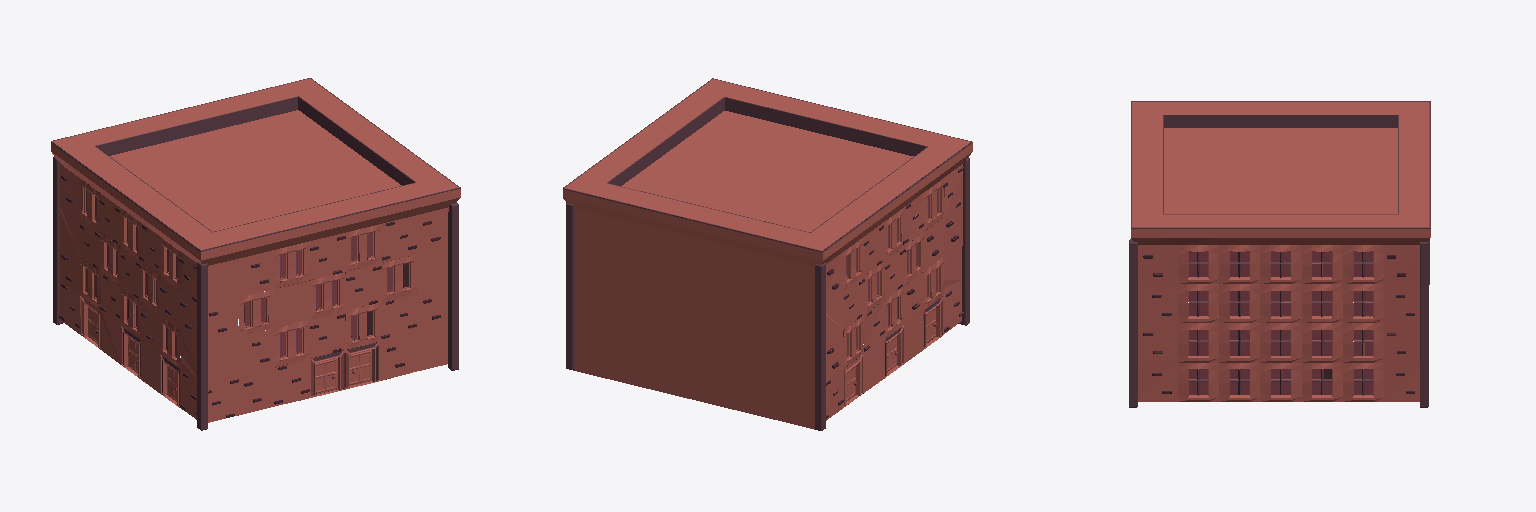
3 views of the same model, side by side, from view 1: azimuth 30°, elevation 25°; view 2: azimuth 150°, elevation 25°; view 3: azimuth 270°, elevation 25° (orthographic).
Parts seen in each view (by area): view 1: Building-Brick1by1-2.001_Plane.018; view 2: Building-Brick1by1-2.001_Plane.018; view 3: Building-Brick1by1-2.001_Plane.018.
Part boxes in pixels (x1,y1,x2,y2): Building-Brick1by1-2.001_Plane.018: (51,78,460,430); Building-Brick1by1-2.001_Plane.018: (563,78,972,430); Building-Brick1by1-2.001_Plane.018: (1129,101,1430,407).
Bounding box in the file's own units: 6.93 × 4.65 × 6.97.
Materials: 4 (1 with a texture image).